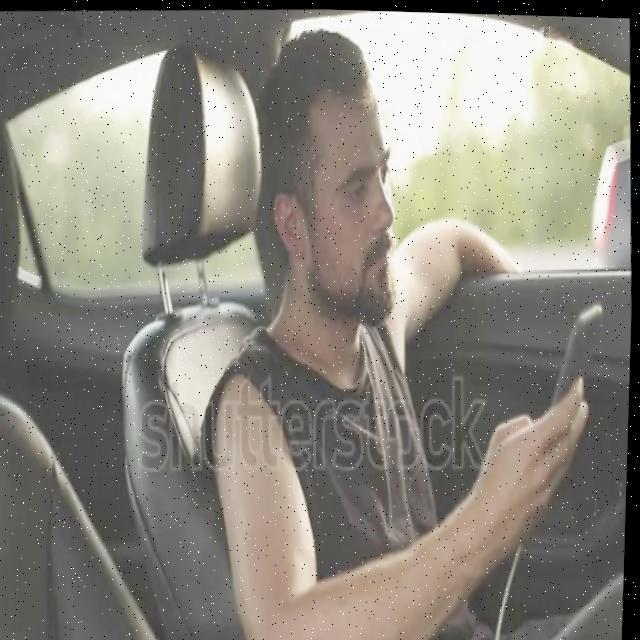PhoneCall: (552, 298, 608, 436)
